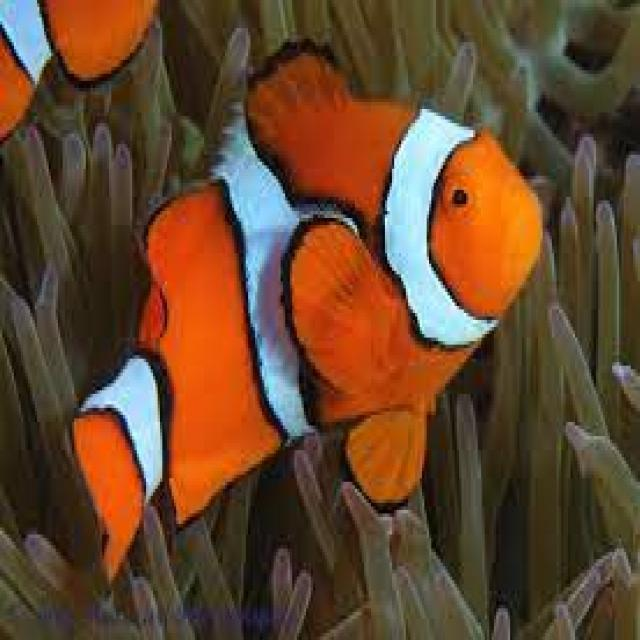ClownFish: (69, 38, 544, 572), (0, 0, 155, 144)
